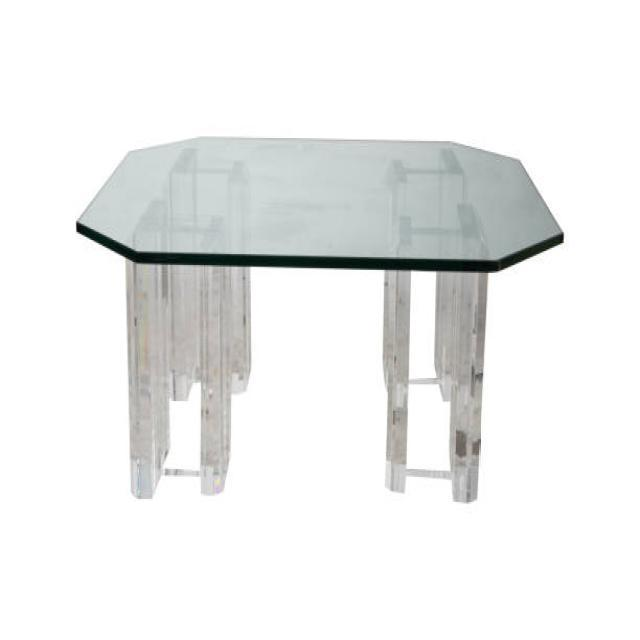table: (75, 134, 564, 504)
